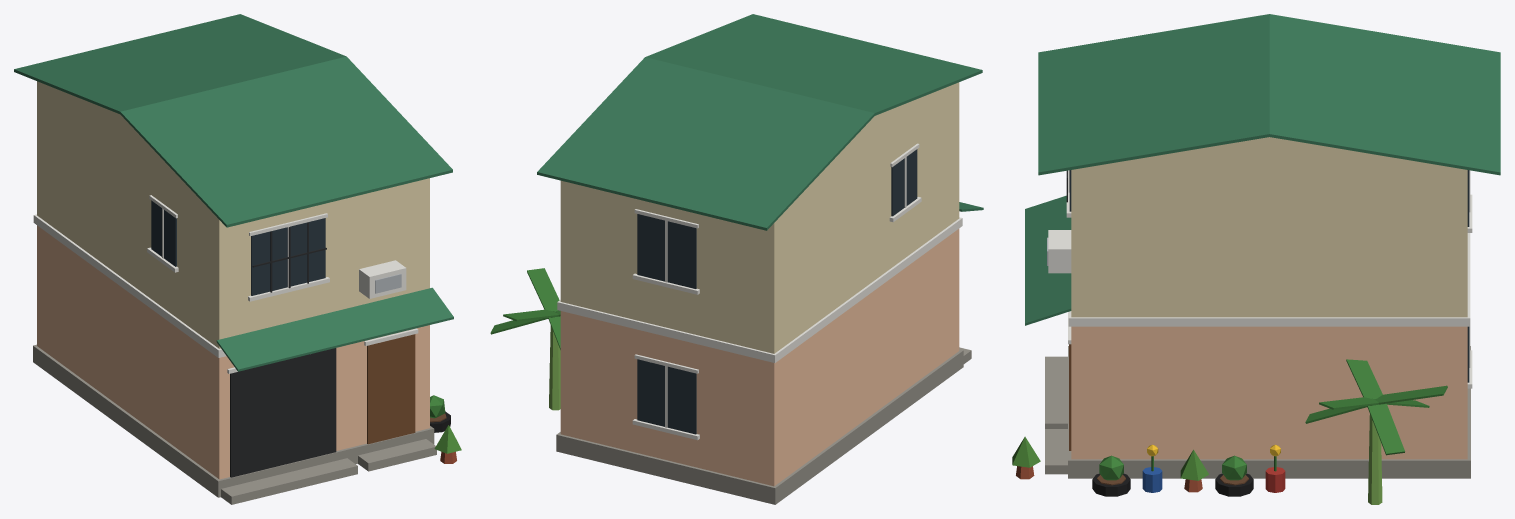
File: BAY_F_TwoStorey_S.glb
3 renders of one model, left to right at view 1: azimuth 30°, elevation 25°; view 2: azimuth 150°, elevation 25°; view 3: azimuth 270°, elevation 25°, orthographic. The views are drawn at different scales.
Visible parts, largest first — view 1: BAY_F_TwoStorey_S; view 2: BAY_F_TwoStorey_S; view 3: BAY_F_TwoStorey_S.
Part boxes in pixels (bbox=[...]): BAY_F_TwoStorey_S: bbox=[14, 14, 461, 504]; BAY_F_TwoStorey_S: bbox=[490, 14, 983, 504]; BAY_F_TwoStorey_S: bbox=[1012, 14, 1500, 504].
Size of the model in its own units: 6.1 by 5.8 by 7.39.
Materials: 1 (1 with a texture image).
